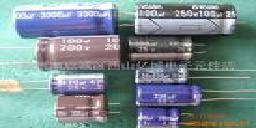Electrolytic-Capacitor: (8, 2, 122, 35), (17, 37, 120, 73), (133, 2, 239, 36), (132, 86, 256, 108), (135, 66, 256, 85), (49, 93, 125, 123), (128, 37, 212, 62), (47, 74, 114, 92)
